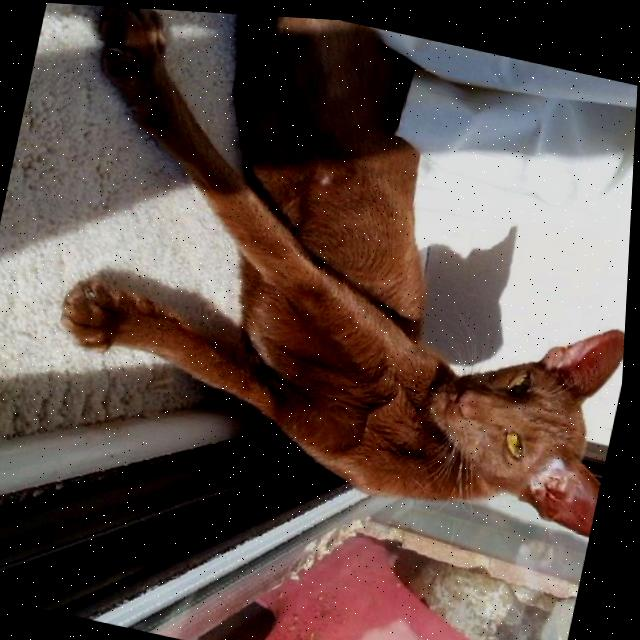Oriental: (12, 2, 640, 539)
